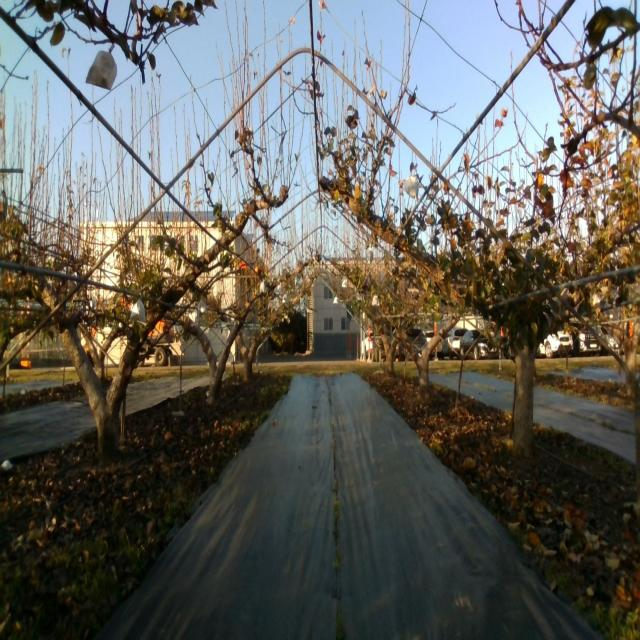pearbags: (85, 51, 117, 91), (401, 174, 420, 204), (130, 298, 146, 326)
